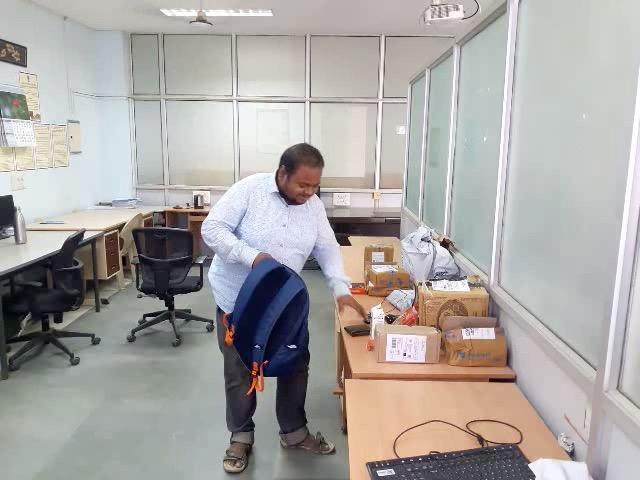shoplifting: (182, 212, 415, 406)
